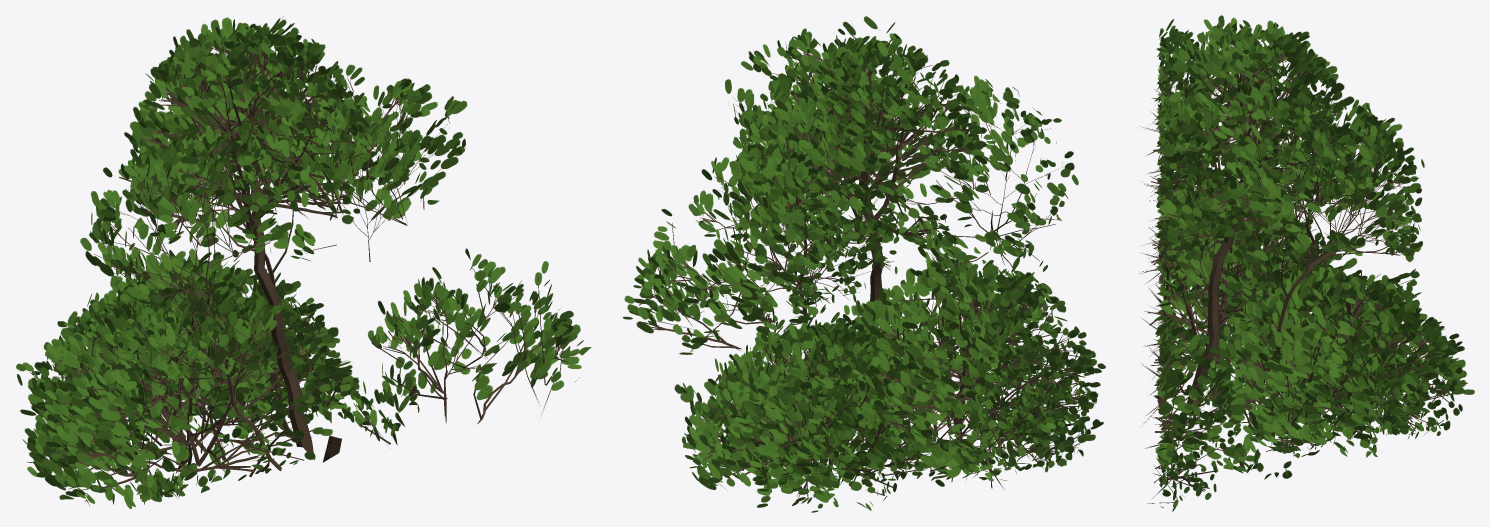
3 renders of one model, left to right at view 1: azimuth 30°, elevation 25°; view 2: azimuth 150°, elevation 25°; view 3: azimuth 270°, elevation 25°, orthographic. The views are drawn at different scales.
Visible parts, largest first — view 1: oak 01.001_trunk_Mat.001_0.258; view 2: oak 01.001_trunk_Mat.001_0.258; view 3: oak 01.001_trunk_Mat.001_0.258.
Boxes of the visible parts, x1,y1,x2,y2 form: oak 01.001_trunk_Mat.001_0.258: (16,16,591,509); oak 01.001_trunk_Mat.001_0.258: (623,16,1105,512); oak 01.001_trunk_Mat.001_0.258: (1139,15,1474,511).
Size of the model in its own units: 4.12 by 3.31 by 2.54.
Materials: 2 (1 with a texture image).
